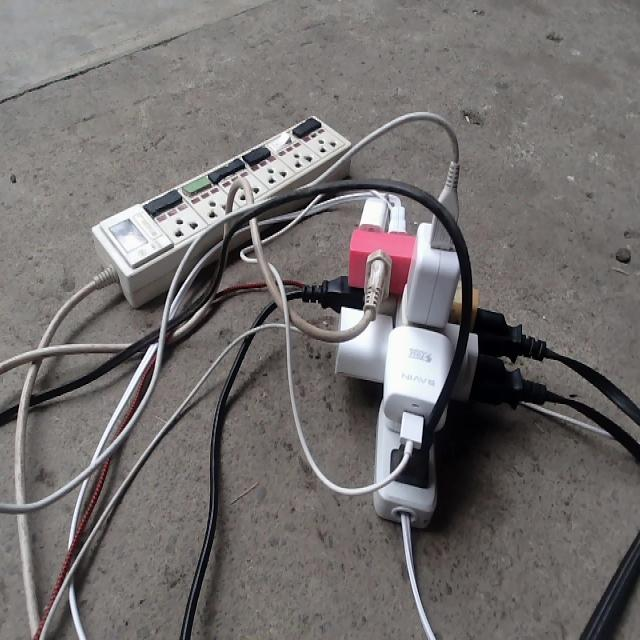-: (306, 145, 549, 527)
